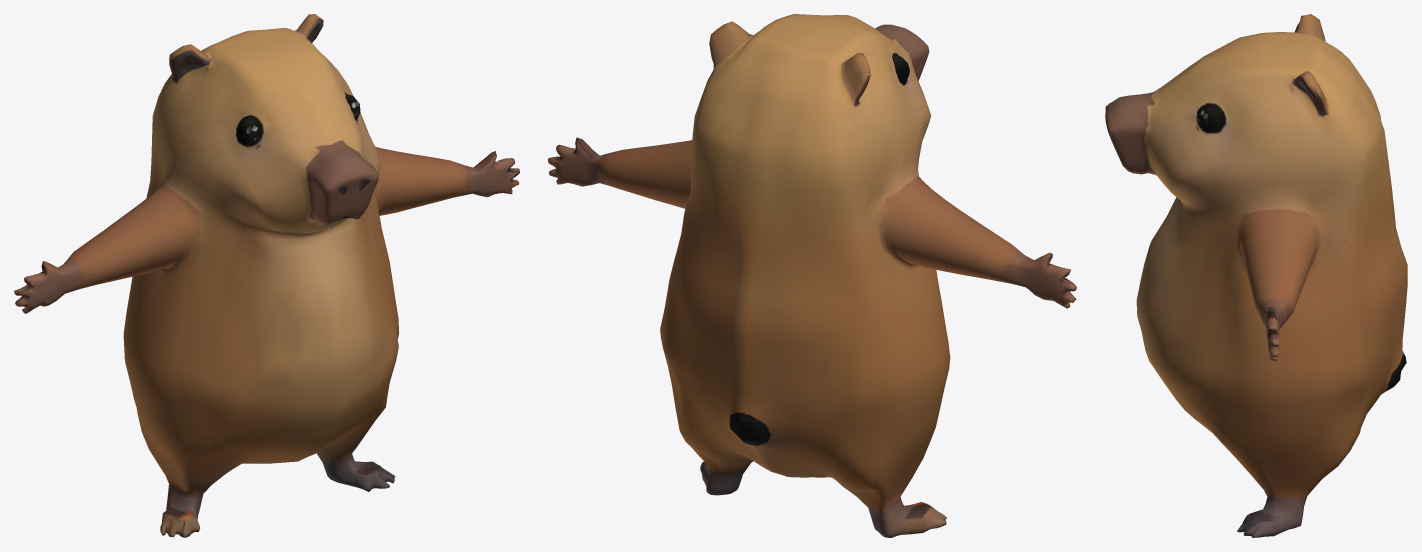
Rendered from Cabbibara_Killer.fbx.
3 views of the same model, side by side, from view 1: azimuth 30°, elevation 25°; view 2: azimuth 150°, elevation 25°; view 3: azimuth 270°, elevation 25° (orthographic). The views are drawn at different scales.
Parts seen in each view (by area): view 1: tripo_node_ab4f0531.001; view 2: tripo_node_ab4f0531.001; view 3: tripo_node_ab4f0531.001.
Boxes of the visible parts, <box> form: tripo_node_ab4f0531.001: <box>14,14,519,537</box>; tripo_node_ab4f0531.001: <box>548,14,1076,537</box>; tripo_node_ab4f0531.001: <box>1105,14,1407,537</box>.
Size of the model in its own units: 97.05 by 84.81 by 52.27.
